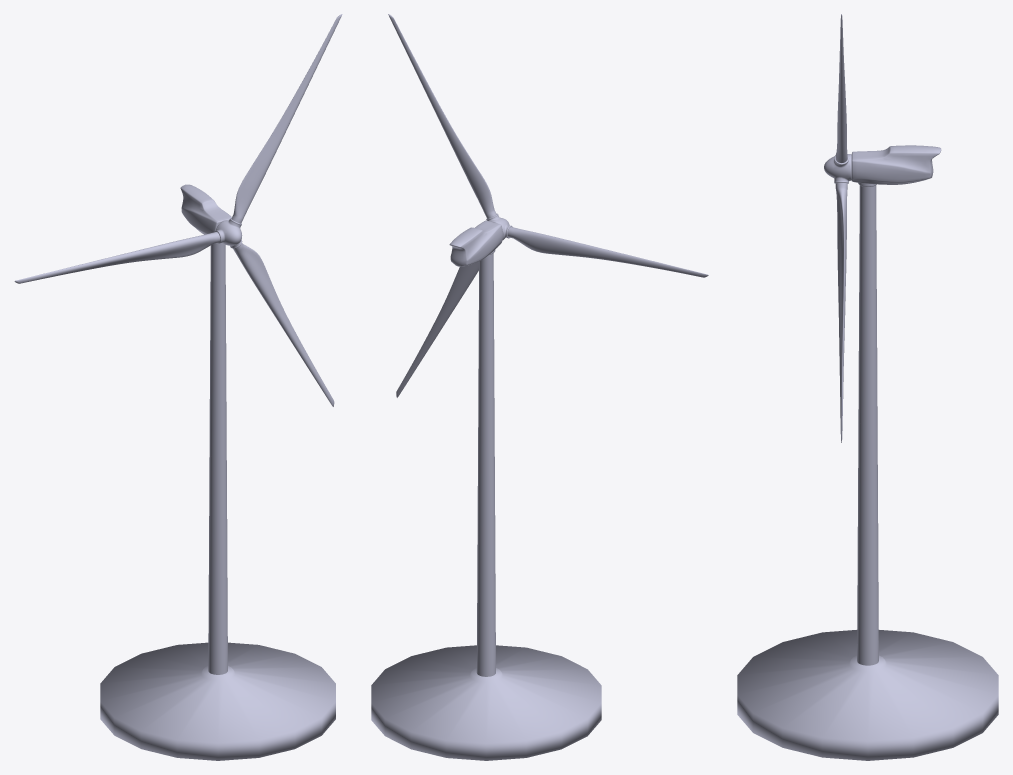
The model's file is shuangkui_baiseshiti.glb.
The picture shows the model from 3 angles, left to right: view 1: azimuth 30°, elevation 25°; view 2: azimuth 150°, elevation 25°; view 3: azimuth 270°, elevation 25°; orthographic projection. The views are drawn at different scales.
Parts seen in each view (by area): view 1: baiseshiti_jichu, baiseshiti_tatong, baiseshiti_yelun, baiseshiti_jicang; view 2: baiseshiti_jichu, baiseshiti_tatong, baiseshiti_yelun, baiseshiti_jicang; view 3: baiseshiti_jichu, baiseshiti_tatong, baiseshiti_yelun, baiseshiti_jicang.
Part boxes in pixels (x1,y1,x2,y2): baiseshiti_jichu: (100, 642, 335, 760); baiseshiti_tatong: (208, 243, 227, 674); baiseshiti_yelun: (14, 14, 342, 406); baiseshiti_jicang: (180, 184, 231, 234); baiseshiti_jichu: (371, 645, 601, 760); baiseshiti_tatong: (476, 250, 495, 676); baiseshiti_yelun: (388, 14, 708, 397); baiseshiti_jicang: (449, 220, 503, 266); baiseshiti_jichu: (737, 630, 998, 760); baiseshiti_tatong: (857, 182, 878, 665); baiseshiti_yelun: (824, 14, 851, 442); baiseshiti_jicang: (851, 145, 941, 184).
Size of the model in its own units: 7106 by 14025 by 4423.
